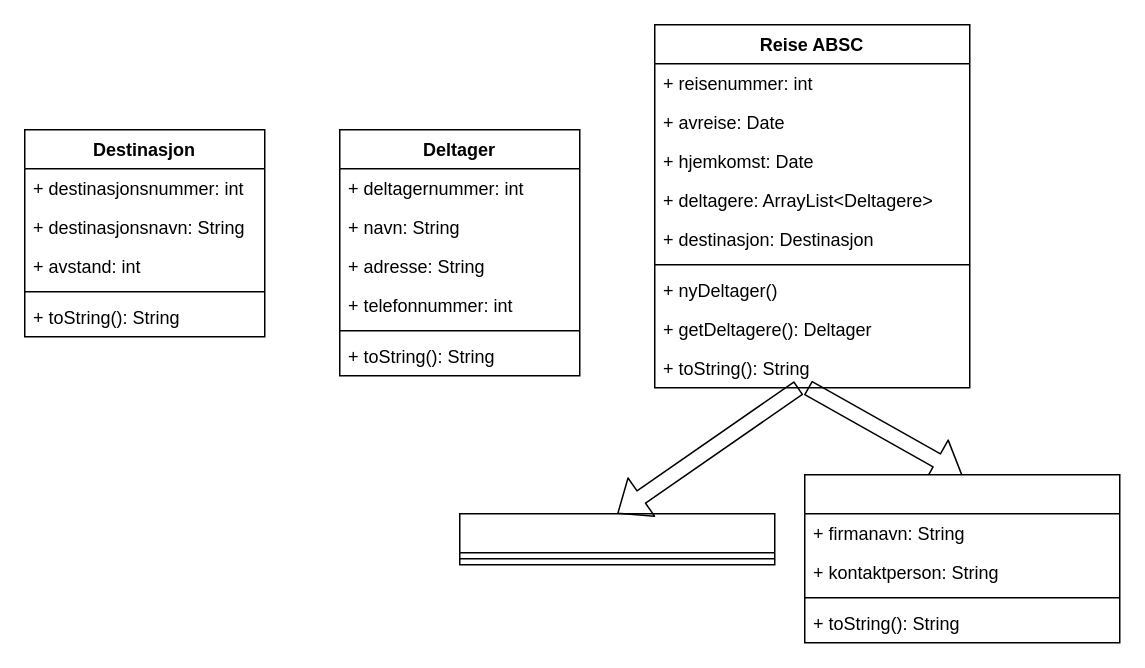
Some shapes in this 1145 by 668 pixel diagram are drawn without their labels. The box of each missing label's shape, as (x1, y1, x2, y2) in pixels:
Firmareise: (803, 473, 1120, 643)
Privatreise: (458, 512, 775, 565)
